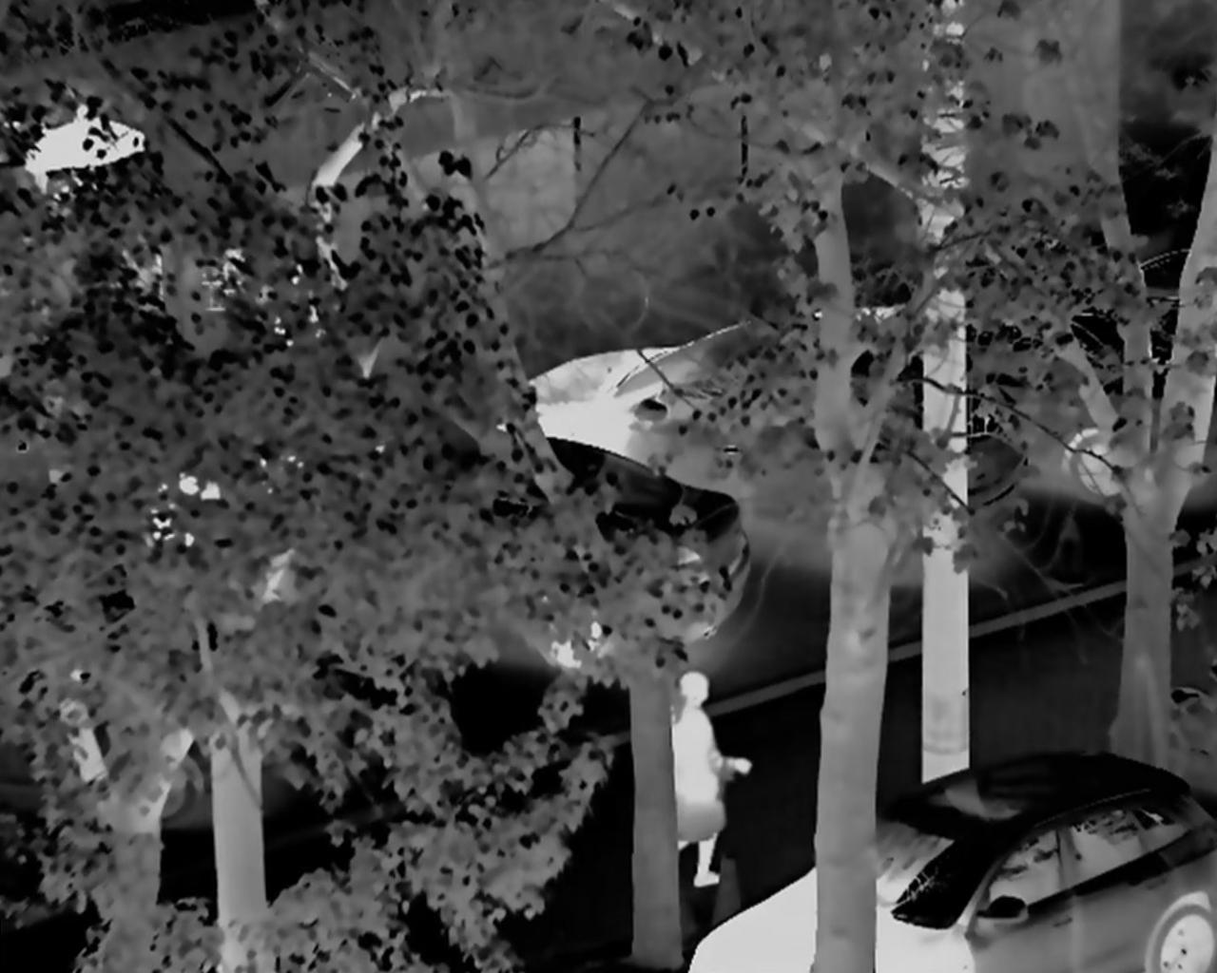person: (647, 662, 752, 887)
